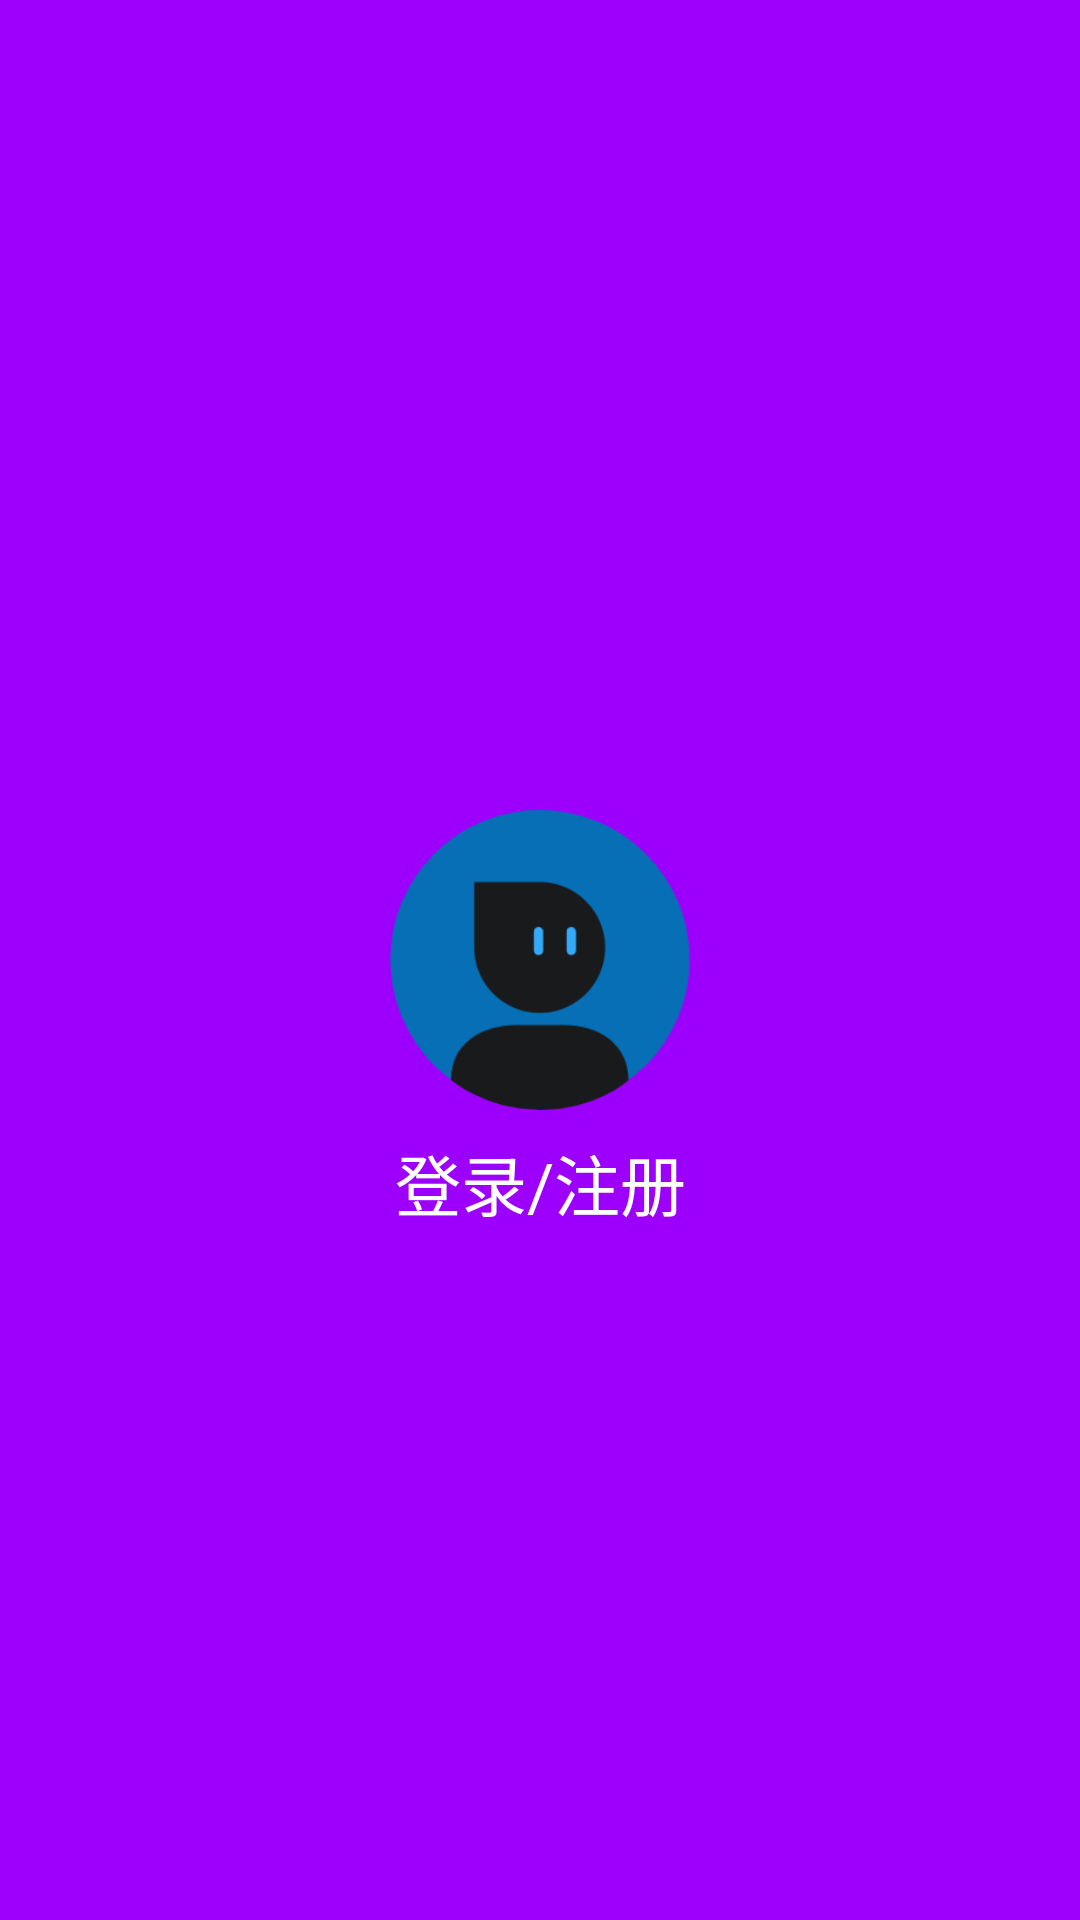

Where to tap for icons on this 1080x1920 app screen, as point (x, y):
head: point (540, 960)
